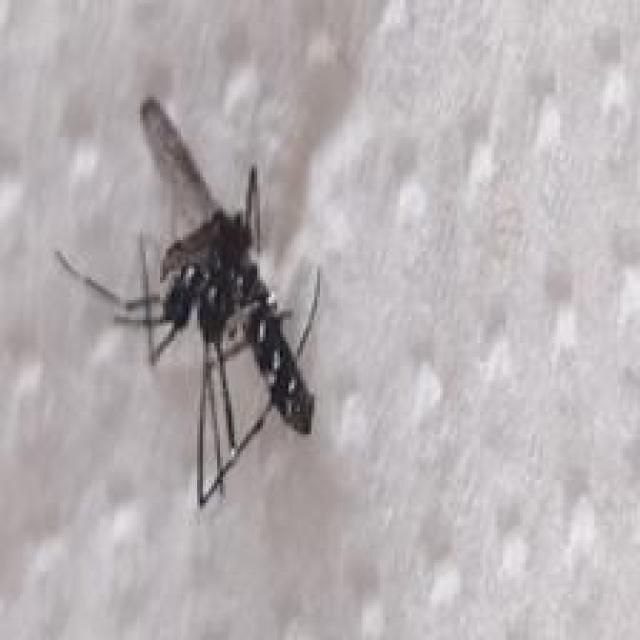Aedes albopictus: (54, 94, 323, 509)
